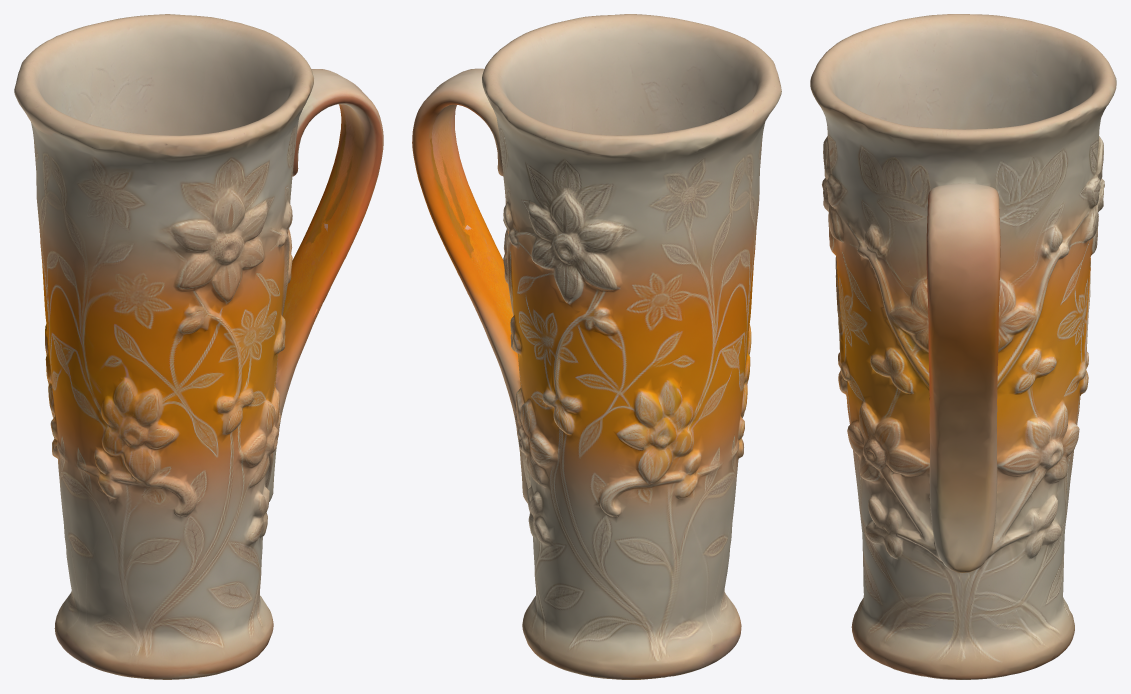
File: cousin_8.glb
3 views of the same model, side by side, from view 1: azimuth 30°, elevation 25°; view 2: azimuth 150°, elevation 25°; view 3: azimuth 270°, elevation 25° (orthographic).
Size of the model in its own units: 1.19 by 1.91 by 0.9377.
Materials: 1 (1 with a texture image).
